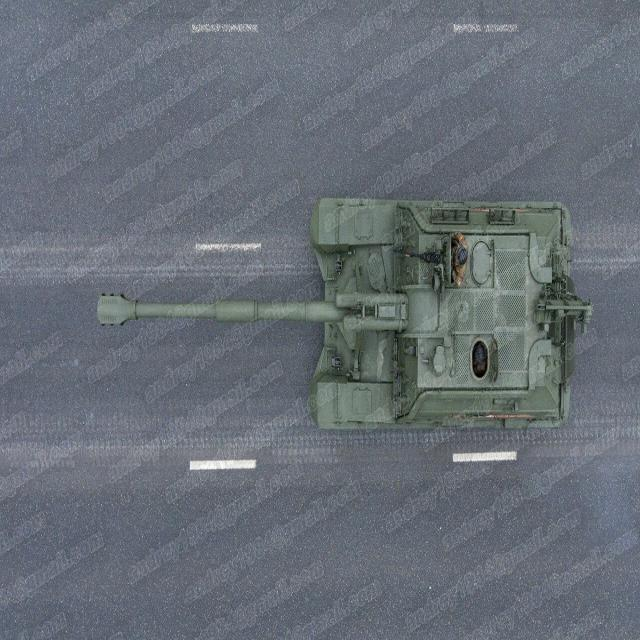tank: (93, 181, 593, 437)
